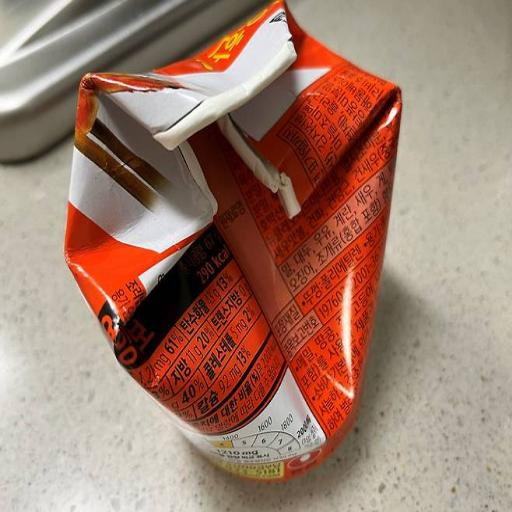paper: (65, 0, 401, 480)
